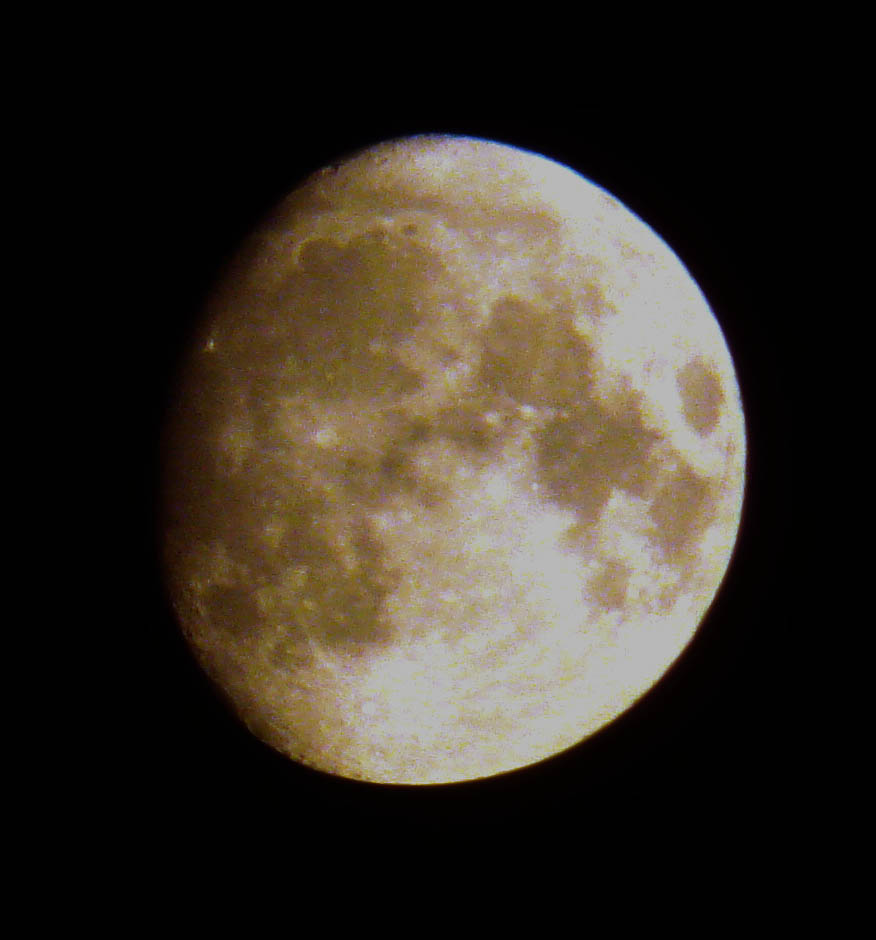crater: (307, 635, 449, 749), (287, 398, 390, 495), (393, 211, 428, 249), (524, 472, 549, 499)
